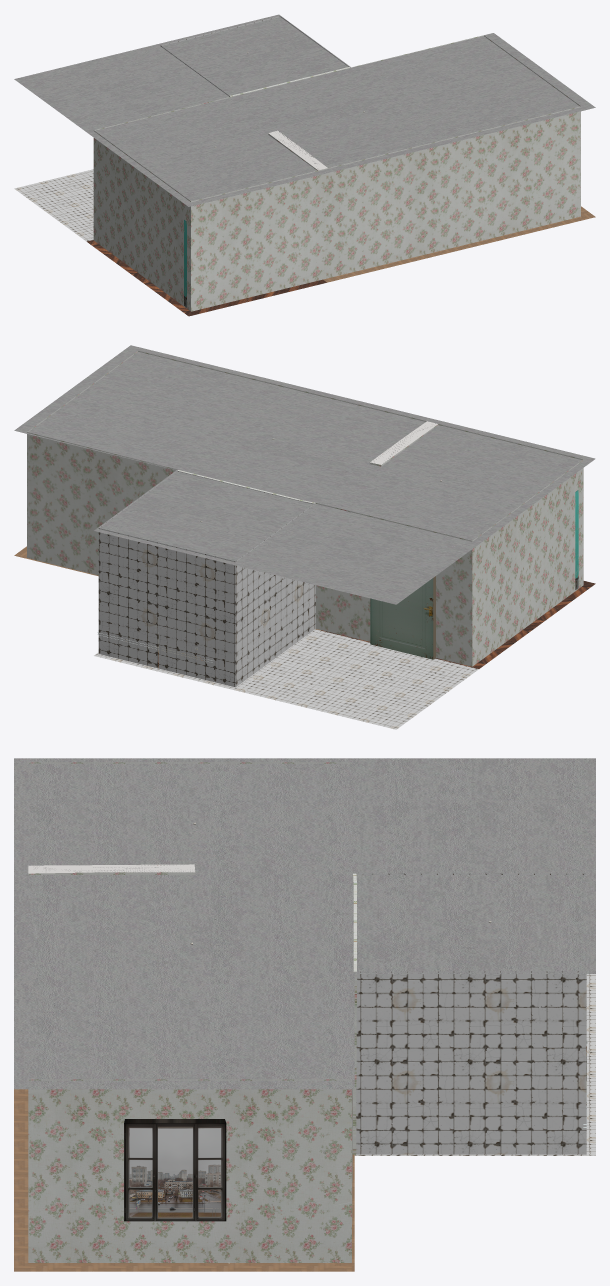
The model's file is kvartira.fbx.
3 renders of one model, top to bottom at view 1: azimuth 30°, elevation 25°; view 2: azimuth 150°, elevation 25°; view 3: azimuth 270°, elevation 25°, orthographic. The views are drawn at different scales.
Visible parts, largest first — view 1: Plane.003, Cube, Plane.002; view 2: Plane.003, Cube, Plane.002, Cube.029; view 3: Plane.003, Cube, Plane.002, Cube.031.
Part boxes in pixels (box(x1,y1,x2,y2)): Plane.003: box(14, 14, 595, 206); Cube: box(93, 16, 580, 311); Plane.002: box(14, 169, 595, 316); Plane.003: box(14, 345, 595, 604); Cube: box(27, 351, 583, 687); Plane.002: box(14, 546, 595, 729); Cube.029: box(370, 578, 433, 659); Plane.003: box(14, 758, 595, 1089); Cube: box(28, 762, 586, 1262); Plane.002: box(14, 974, 595, 1271); Cube.031: box(352, 873, 356, 1154).
Bounding box in the file's own units: 1039 × 276 × 772.
